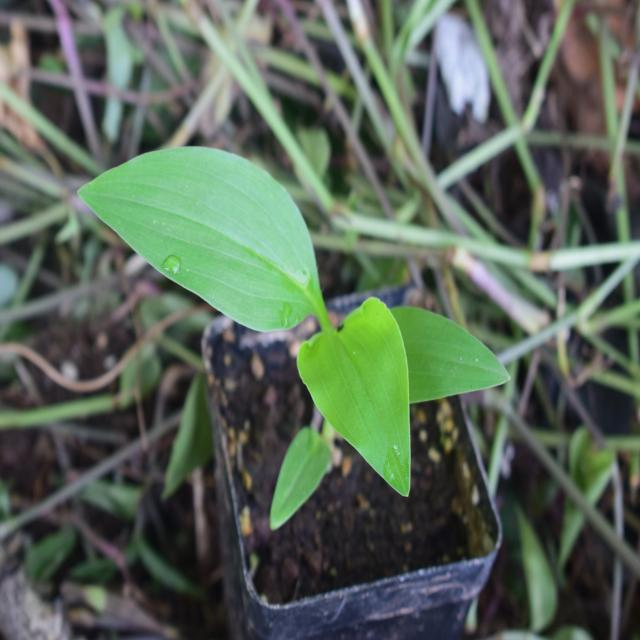Common Dayflower: (89, 125, 494, 488)
